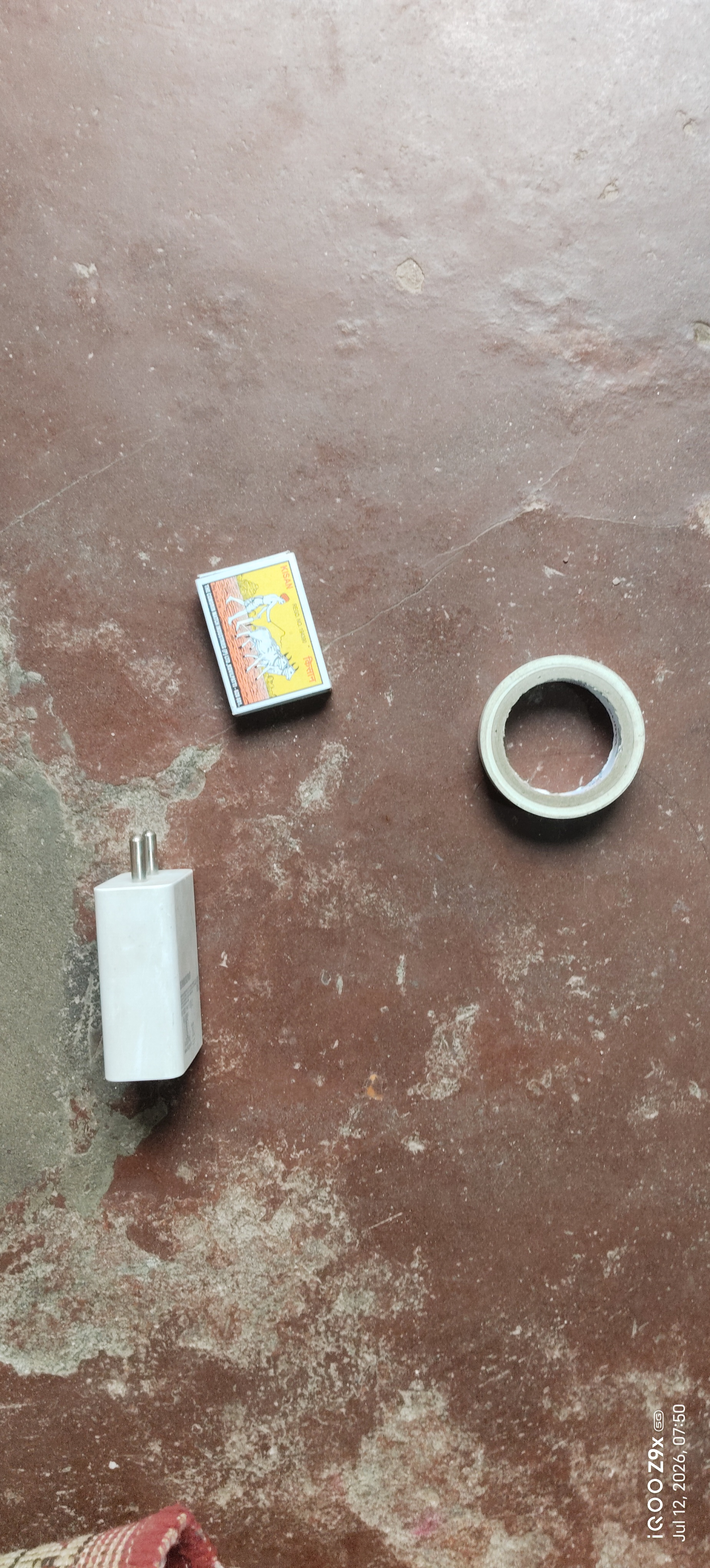charger: (55, 800, 214, 1130)
matchbox: (145, 533, 368, 762)
tape_roll: (455, 643, 655, 852)
